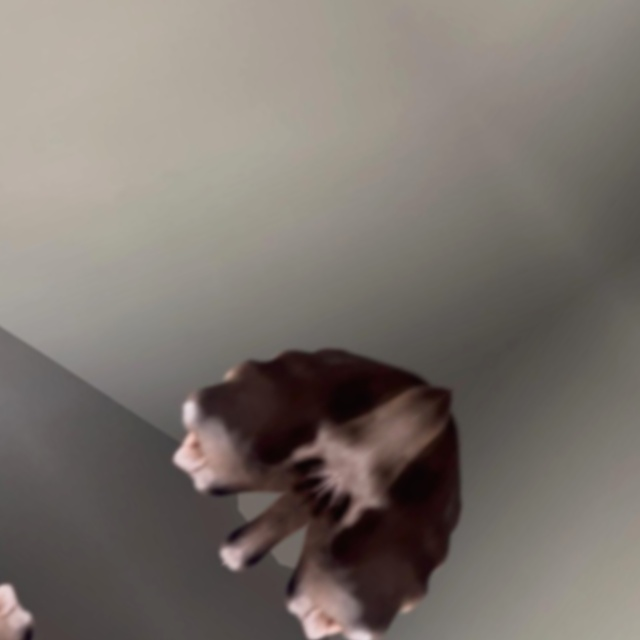Rock: (622, 0, 640, 177)
